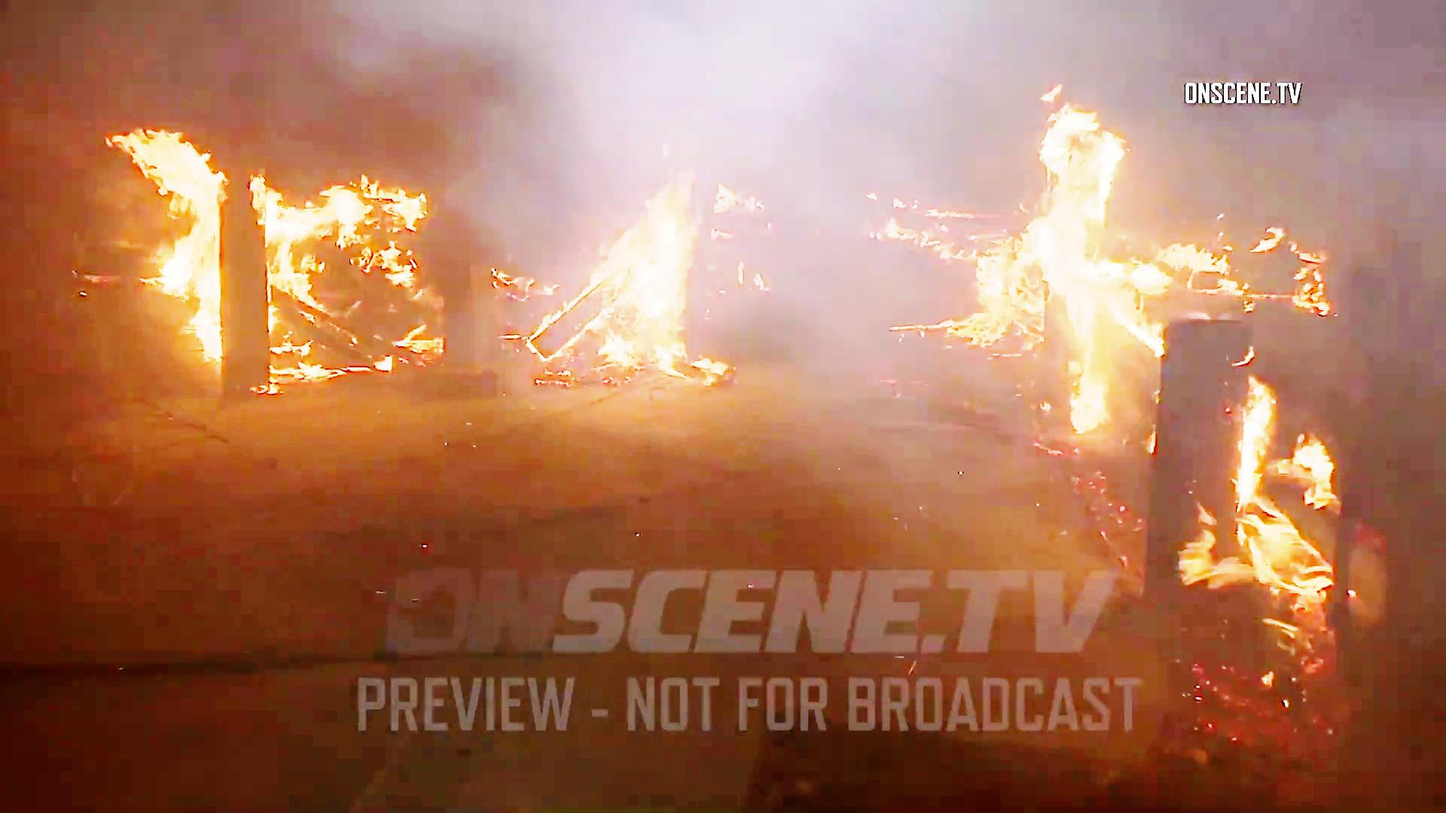fire: (976, 113, 1135, 407), (524, 175, 691, 372)
